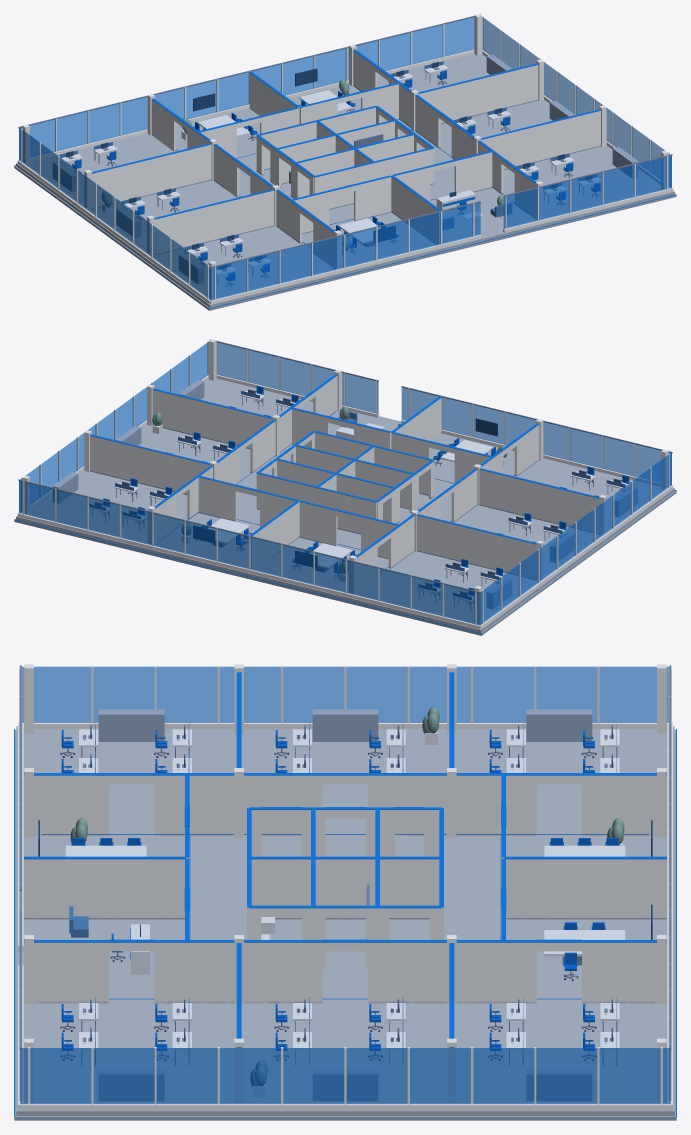
The model's file is office01.glb.
3 renders of one model, top to bottom at view 1: azimuth 30°, elevation 25°; view 2: azimuth 150°, elevation 25°; view 3: azimuth 270°, elevation 25°, orthographic. The views are drawn at different scales.
Visible parts, largest first — view 1: wall, ground, multiHall1_conferencetable_01, reception1_receptiondesk_01, projectSpace1_cabinet_01, studio1_cabinet_01, collabSpace1_cabinet_01, openOffice1_cabinet_01; view 2: wall, ground, meetingRoom1_conferencetable_01, trainingRoom1_conferencetable_01, designStudio1_cabinet_01, openOffice1_cabinet_01, collabSpace1_cabinet_01, studio1_cabinet_01; view 3: wall, ground, studio1_cabinet_01, collabSpace1_cabinet_01, openOffice1_cabinet_01, designStudio1_cabinet_01, projectSpace1_cabinet_01, openOffice2_cabinet_01, trainingRoom1_conferencetable_01, meetingRoom1_conferencetable_01, multiHall1_conferencetable_01, collabSpace1_plant_01 (+1 smaller).
Part boxes in pixels (bbox=[...]): wall: bbox=[17, 14, 673, 304]; ground: bbox=[14, 53, 676, 310]; multiHall1_conferencetable_01: bbox=[338, 218, 381, 247]; reception1_receptiondesk_01: bbox=[436, 190, 475, 215]; projectSpace1_cabinet_01: bbox=[612, 147, 638, 178]; studio1_cabinet_01: bbox=[179, 253, 203, 284]; collabSpace1_cabinet_01: bbox=[116, 207, 140, 237]; openOffice1_cabinet_01: bbox=[53, 161, 76, 191]; wall: bbox=[17, 339, 673, 629]; ground: bbox=[14, 378, 676, 635]; meetingRoom1_conferencetable_01: bbox=[309, 543, 352, 572]; trainingRoom1_conferencetable_01: bbox=[207, 518, 250, 547]; designStudio1_cabinet_01: bbox=[52, 472, 78, 503]; openOffice1_cabinet_01: bbox=[487, 578, 511, 609]; collabSpace1_cabinet_01: bbox=[550, 532, 574, 562]; studio1_cabinet_01: bbox=[614, 486, 637, 516]; wall: bbox=[18, 664, 672, 1110]; ground: bbox=[14, 725, 676, 1120]; studio1_cabinet_01: bbox=[98, 709, 164, 741]; collabSpace1_cabinet_01: bbox=[312, 709, 378, 741]; openOffice1_cabinet_01: bbox=[526, 709, 592, 741]; designStudio1_cabinet_01: bbox=[526, 1069, 591, 1100]; projectSpace1_cabinet_01: bbox=[99, 1069, 164, 1100]; openOffice2_cabinet_01: bbox=[313, 1069, 377, 1100]; trainingRoom1_conferencetable_01: bbox=[544, 930, 625, 965]; meetingRoom1_conferencetable_01: bbox=[544, 845, 625, 856]; multiHall1_conferencetable_01: bbox=[65, 845, 146, 856]; collabSpace1_plant_01: bbox=[70, 707, 439, 841].
Bounding box in the file's own units: 36.2 × 3.21 × 26.19.
